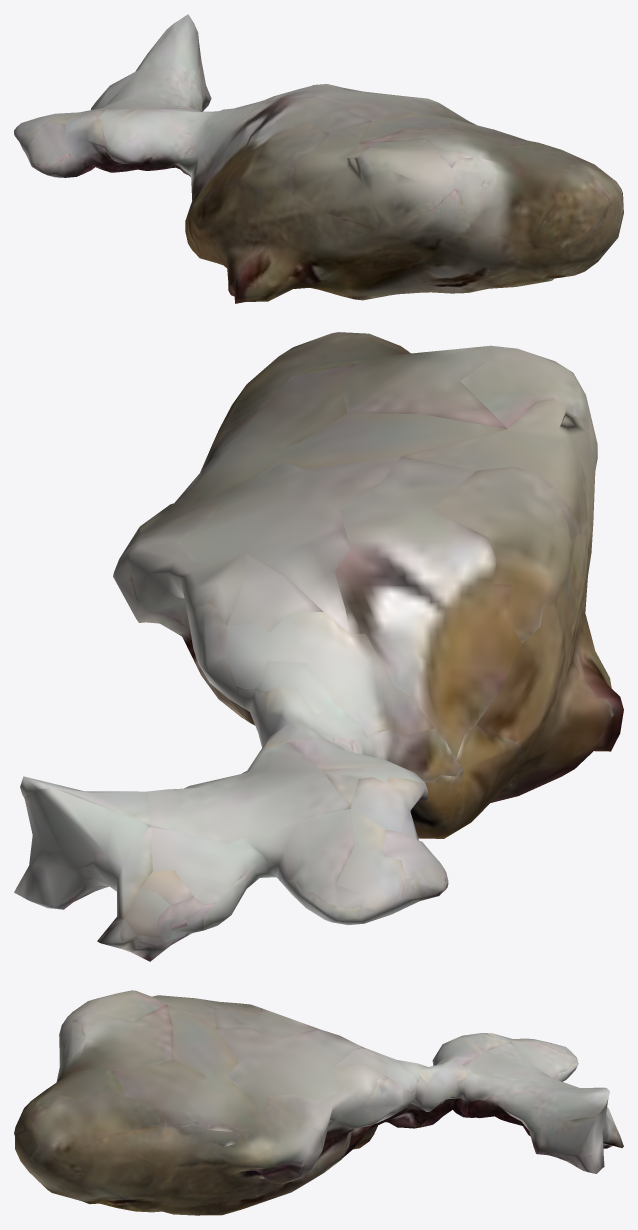
Rendered from hall.glb.
3 views of the same model, one above another, from view 1: azimuth 30°, elevation 25°; view 2: azimuth 150°, elevation 25°; view 3: azimuth 270°, elevation 25° (orthographic). The views are drawn at different scales.
Bounding box in the file's own units: 0.4281 × 0.2267 × 0.6886.
1 material, 1 textured.
